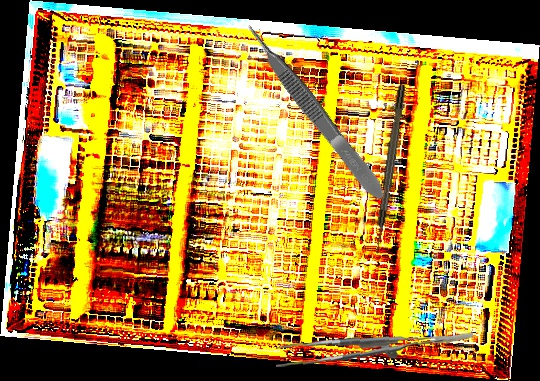Hook Surgical: (371, 84, 408, 255)
Tissue Forceps: (241, 18, 390, 205), (276, 325, 473, 374)
